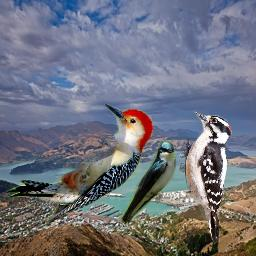Swallow: (119, 140, 177, 228)
Woodpecker: (5, 104, 153, 223), (179, 111, 233, 246)
